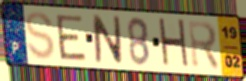8: (126, 16, 151, 68)
E: (54, 14, 88, 63)
H: (157, 16, 192, 72)
N: (91, 13, 124, 67)
R: (186, 19, 222, 73)
S: (24, 10, 57, 62)
